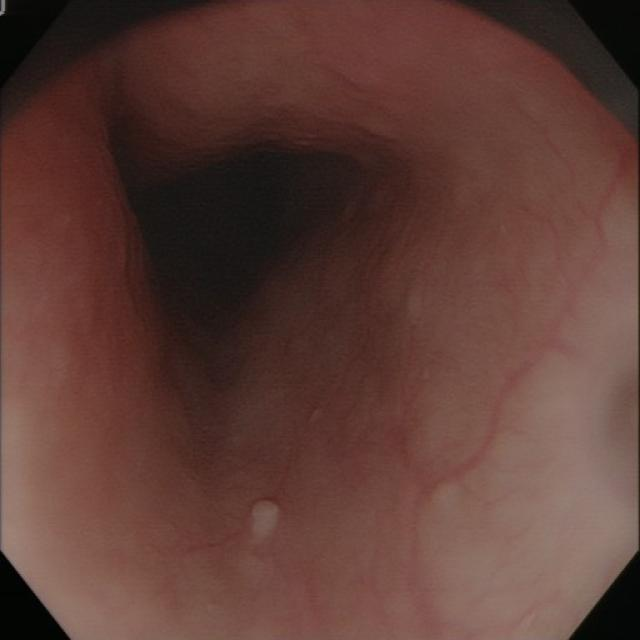E: (106, 94, 368, 370)
J: (242, 495, 286, 550)
